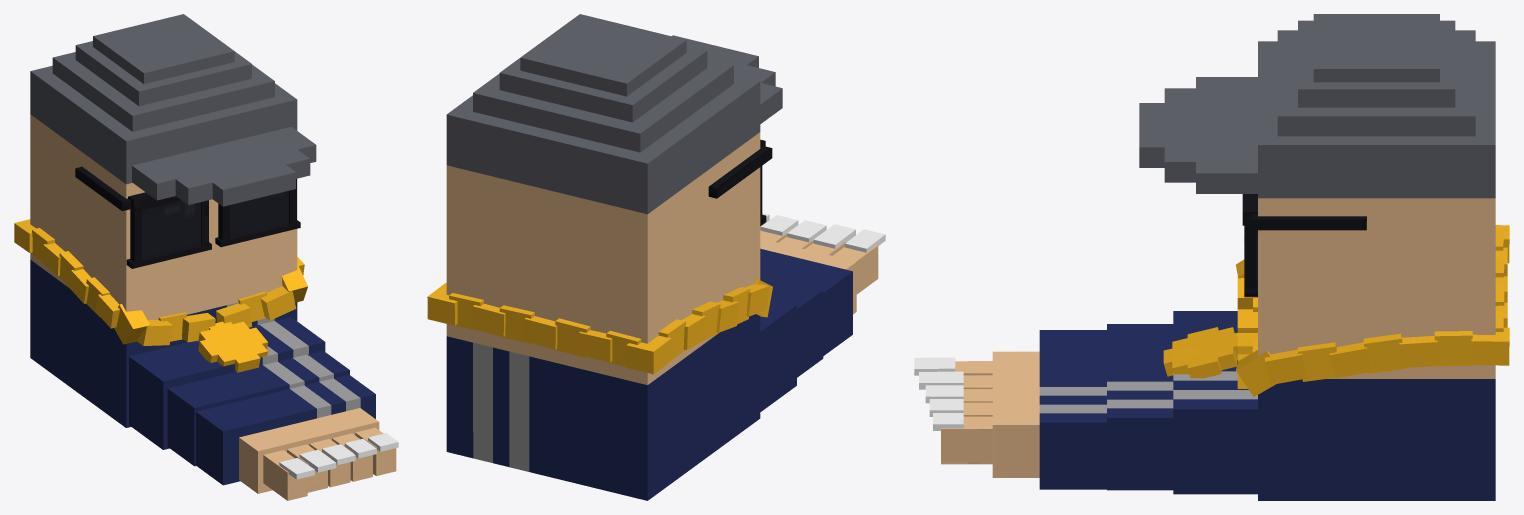
The model's file is gangsterFootera.fbx.
3 renders of one model, left to right at view 1: azimuth 30°, elevation 25°; view 2: azimuth 150°, elevation 25°; view 3: azimuth 270°, elevation 25°, orthographic. The views are drawn at different scales.
Visible parts, largest first — view 1: gangsterFootera; view 2: gangsterFootera; view 3: gangsterFootera.
Boxes of the visible parts, x1,y1,x2,y2 form: gangsterFootera: [14, 14, 398, 500]; gangsterFootera: [427, 14, 885, 500]; gangsterFootera: [914, 14, 1509, 500].
Size of the model in its own units: 320 by 521 by 689.
